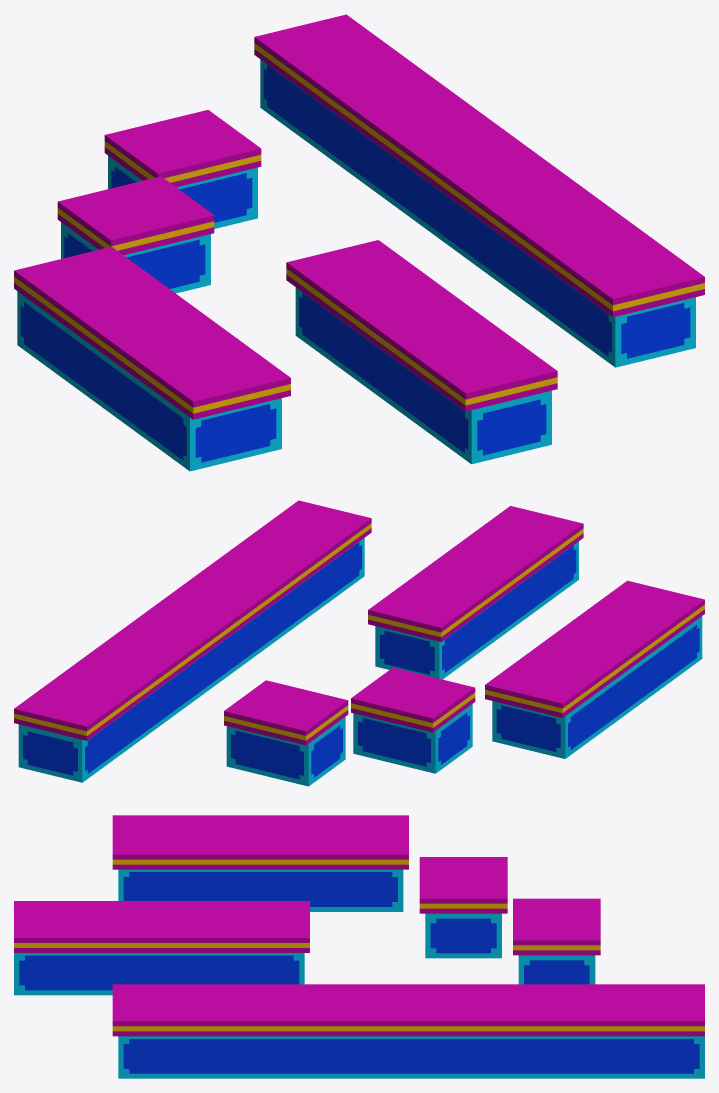
The model's file is level_2.3.obj.
3 renders of one model, top to bottom at view 1: azimuth 30°, elevation 25°; view 2: azimuth 150°, elevation 25°; view 3: azimuth 270°, elevation 25°, orthographic. The views are drawn at different scales.
Size of the model in its own units: 8.9 by 1.2 by 12.6.
1 material, 1 textured.
